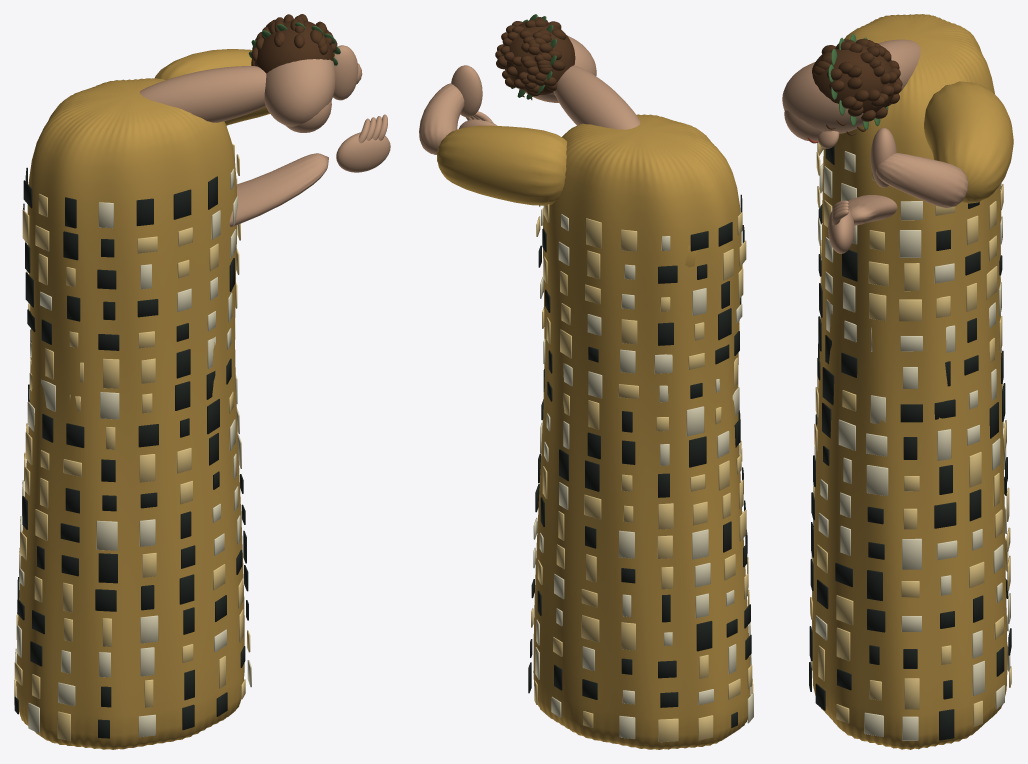
File: man-posed.glb
3 renders of one model, left to right at view 1: azimuth 30°, elevation 25°; view 2: azimuth 150°, elevation 25°; view 3: azimuth 270°, elevation 25°, orthographic. The views are drawn at different scales.
Visible parts, largest first — view 1: Man combined geometry; view 2: Man combined geometry; view 3: Man combined geometry.
Boxes of the visible parts, box(x1,y1,x2,y2) form: Man combined geometry: box(14, 14, 390, 749); Man combined geometry: box(419, 14, 753, 749); Man combined geometry: box(782, 14, 1013, 749).
Size of the model in its own units: 0.78 by 1.53 by 0.4346.
